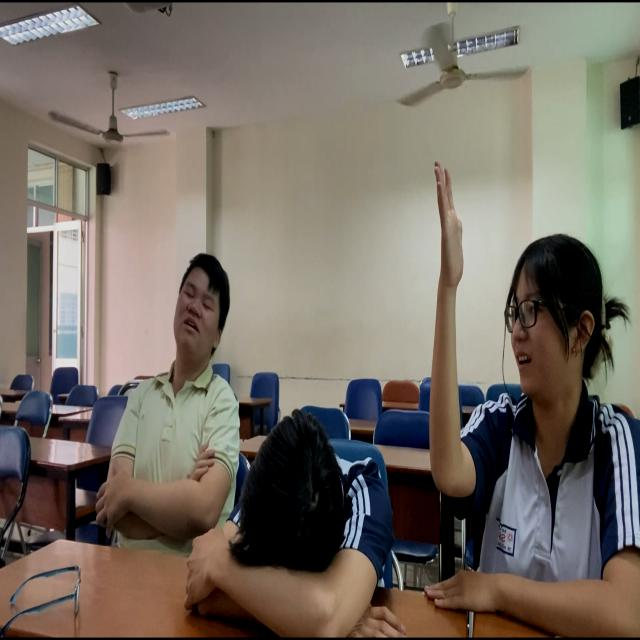raise_hand: (425, 148, 633, 628)
sleep: (174, 419, 404, 640)
